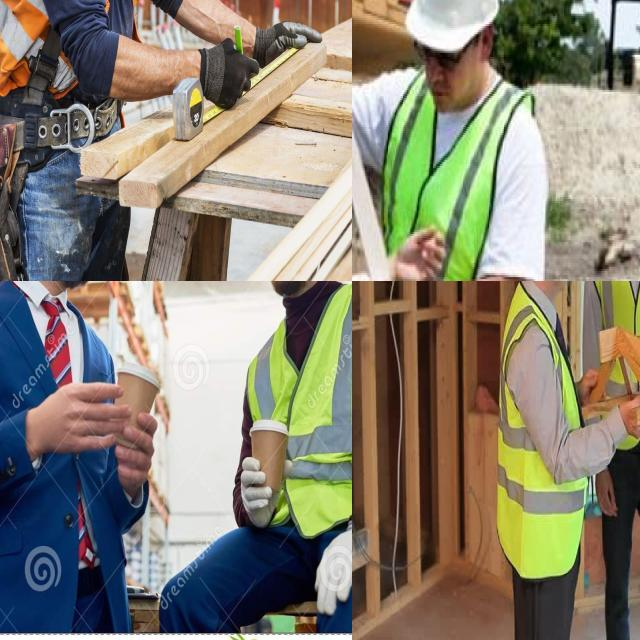face_nomask: (422, 46, 474, 118)
glasses: (411, 34, 465, 74)
hand_glove: (255, 9, 323, 80), (202, 41, 259, 110), (313, 527, 352, 615), (238, 458, 274, 520)
hand_noglove: (20, 375, 131, 451), (396, 227, 456, 281), (120, 410, 160, 488), (591, 464, 619, 531), (615, 390, 640, 445), (576, 364, 600, 407)
head_helmet: (399, 0, 502, 54)
person: (0, 0, 192, 281), (352, 0, 542, 281), (0, 281, 140, 622), (221, 281, 352, 632), (496, 281, 586, 640), (588, 281, 640, 640)
vest: (377, 73, 539, 281), (234, 292, 352, 544), (500, 284, 587, 582), (0, 0, 141, 100), (593, 281, 640, 455)
